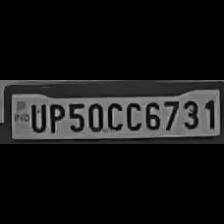0: (84, 100, 104, 132)
1: (201, 96, 219, 130)
3: (179, 96, 199, 130)
5: (65, 100, 85, 132)
6: (142, 99, 160, 131)
7: (160, 97, 178, 130)
C: (123, 99, 141, 131), (104, 99, 122, 130)
P: (46, 100, 64, 132)
U: (26, 100, 46, 132)
